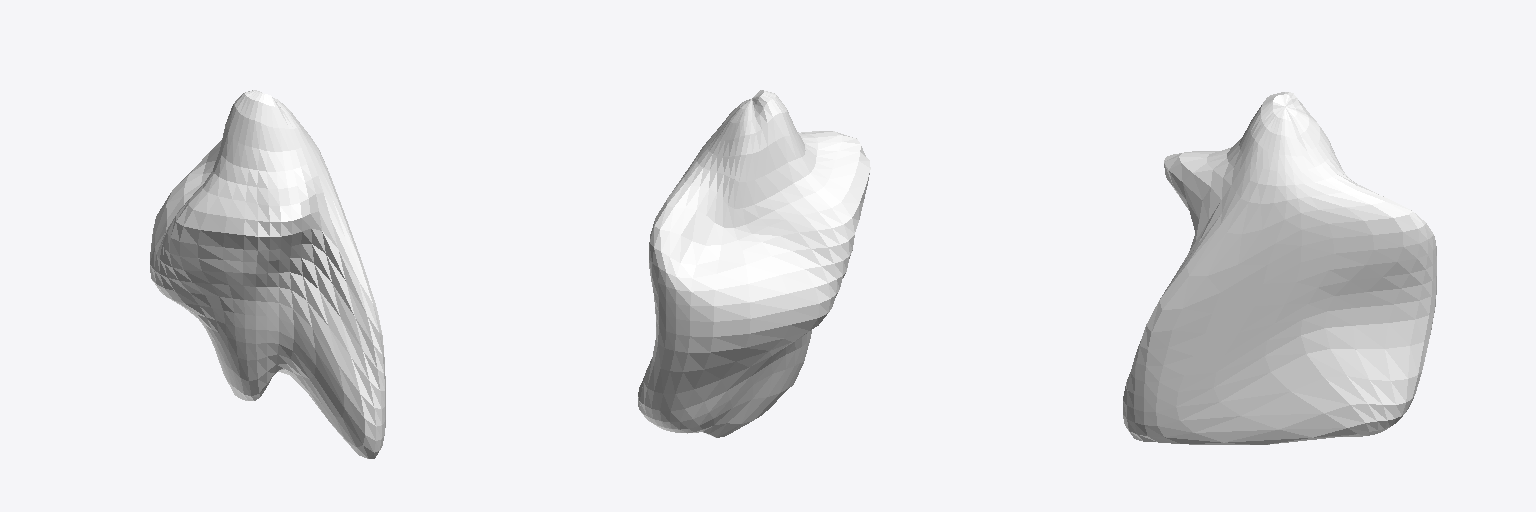
The model's file is blob-test.obj.
3 views of the same model, side by side, from view 1: azimuth 30°, elevation 25°; view 2: azimuth 150°, elevation 25°; view 3: azimuth 270°, elevation 25° (orthographic).
Parts seen in each view (by area): view 1: Capsule.1; view 2: Capsule.1; view 3: Capsule.1.
Boxes of the visible parts, <box> form: Capsule.1: <box>150,90,385,458</box>; Capsule.1: <box>638,90,870,437</box>; Capsule.1: <box>1123,92,1436,444</box>.
Size of the model in its own units: 259 by 480 by 420.